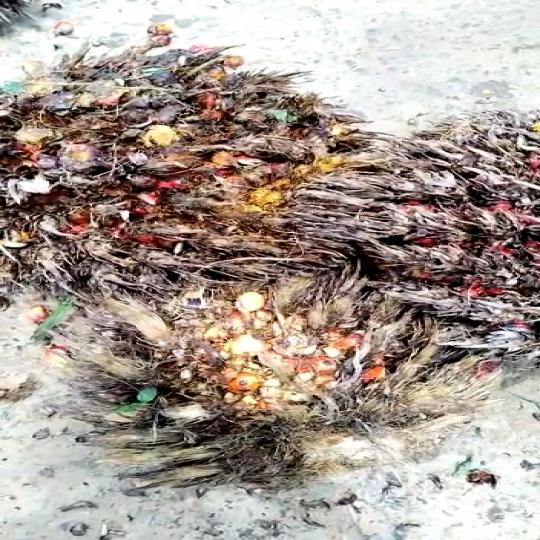terlalu masak: (0, 45, 385, 298), (50, 271, 451, 496)
